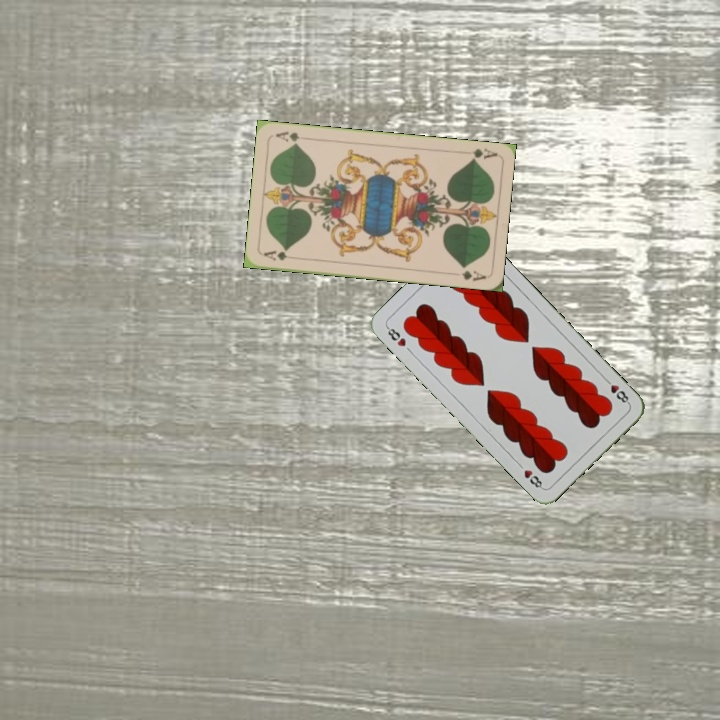GA: (260, 246, 300, 263), (466, 144, 499, 163)
H8: (600, 374, 632, 407), (382, 323, 408, 349)
